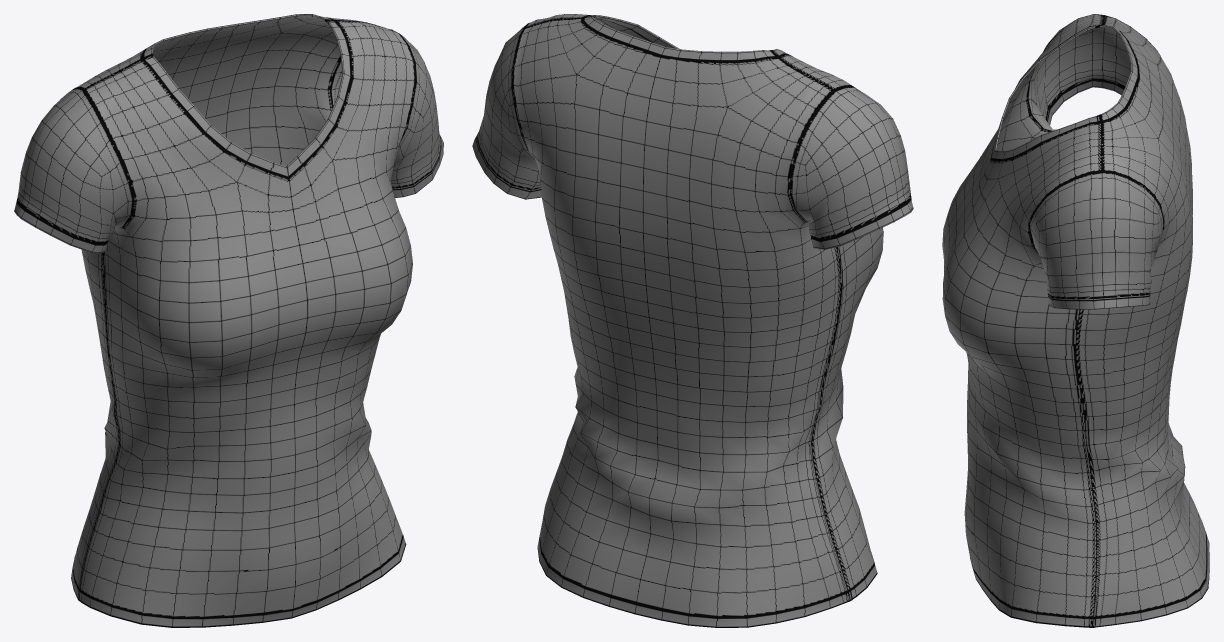
Rendered from shirt.fbx.
3 views of the same model, side by side, from view 1: azimuth 30°, elevation 25°; view 2: azimuth 150°, elevation 25°; view 3: azimuth 270°, elevation 25° (orthographic). The views are drawn at different scales.
Parts seen in each view (by area): view 1: T_Shirt_female; view 2: T_Shirt_female; view 3: T_Shirt_female.
Part boxes in pixels (left/top/right/bottom): T_Shirt_female: left=14, top=14, right=443, bottom=627; T_Shirt_female: left=472, top=14, right=913, bottom=627; T_Shirt_female: left=942, top=14, right=1209, bottom=627.
Bounding box in the file's own units: 43.45 × 52.52 × 24.92.
1 material, 1 textured.
